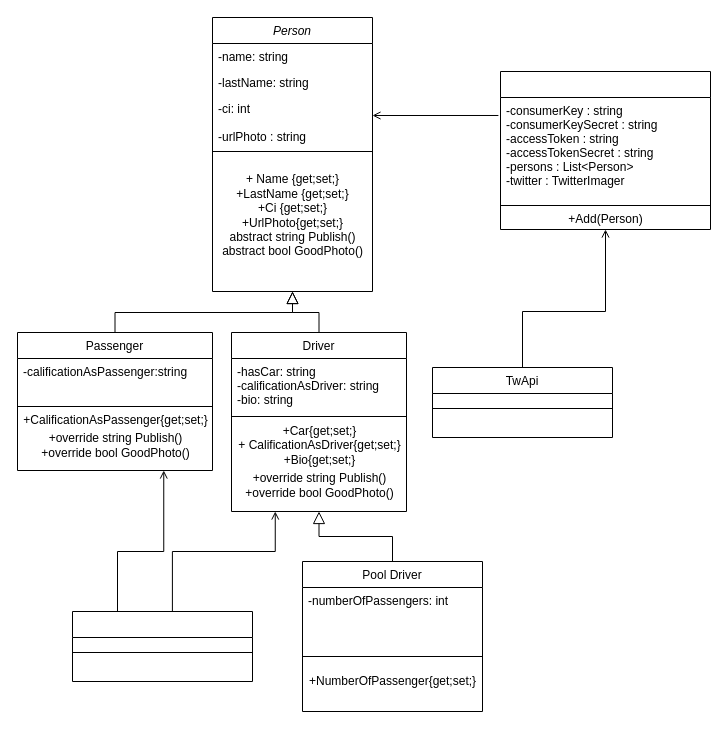
Image size: 728x729. Some labels were removed from this diagram. The shapes that lost their labels are listed below. From the top down, each one's box as (x1, y1, x2, y2) in pixels, then its label:
(500, 70, 710, 230): UcuRideShare
(72, 610, 252, 682): CognitiveFaceApi
